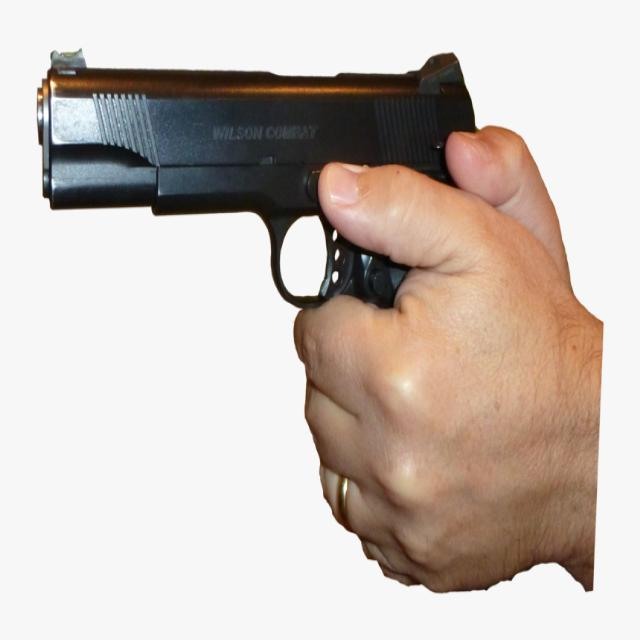HandGun: (35, 49, 479, 310)
